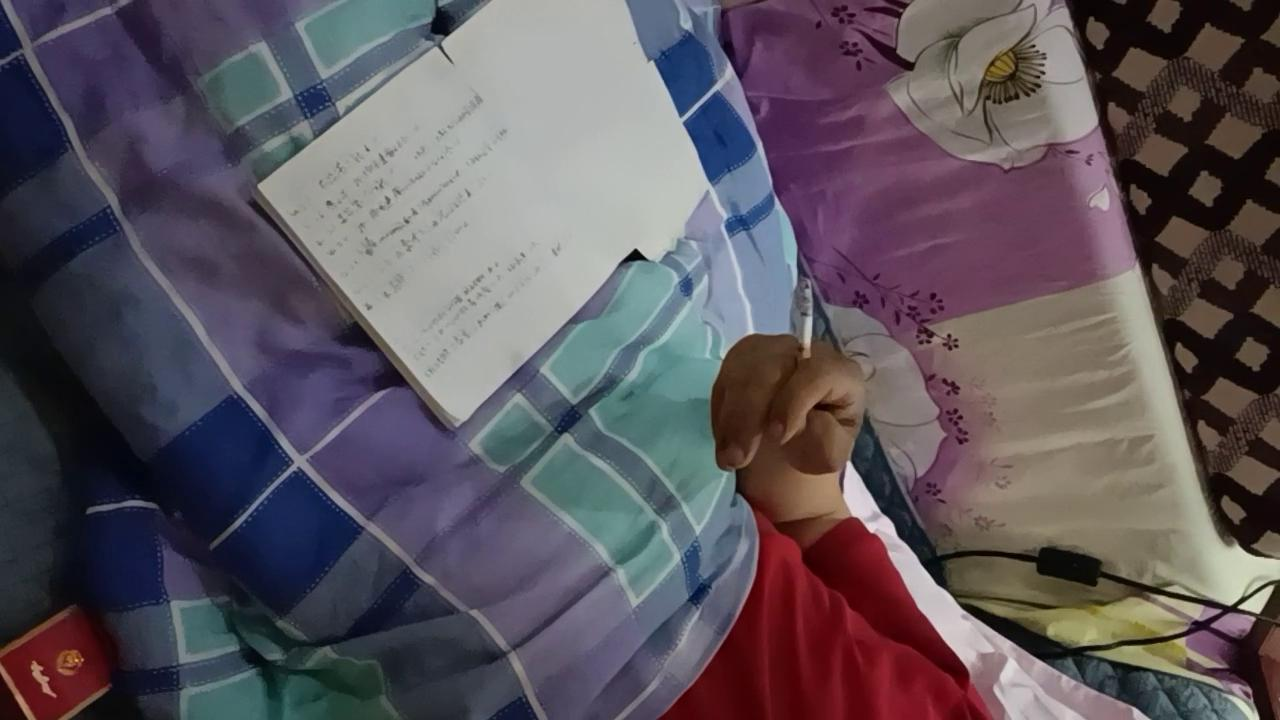smoke: (795, 277, 814, 388)
